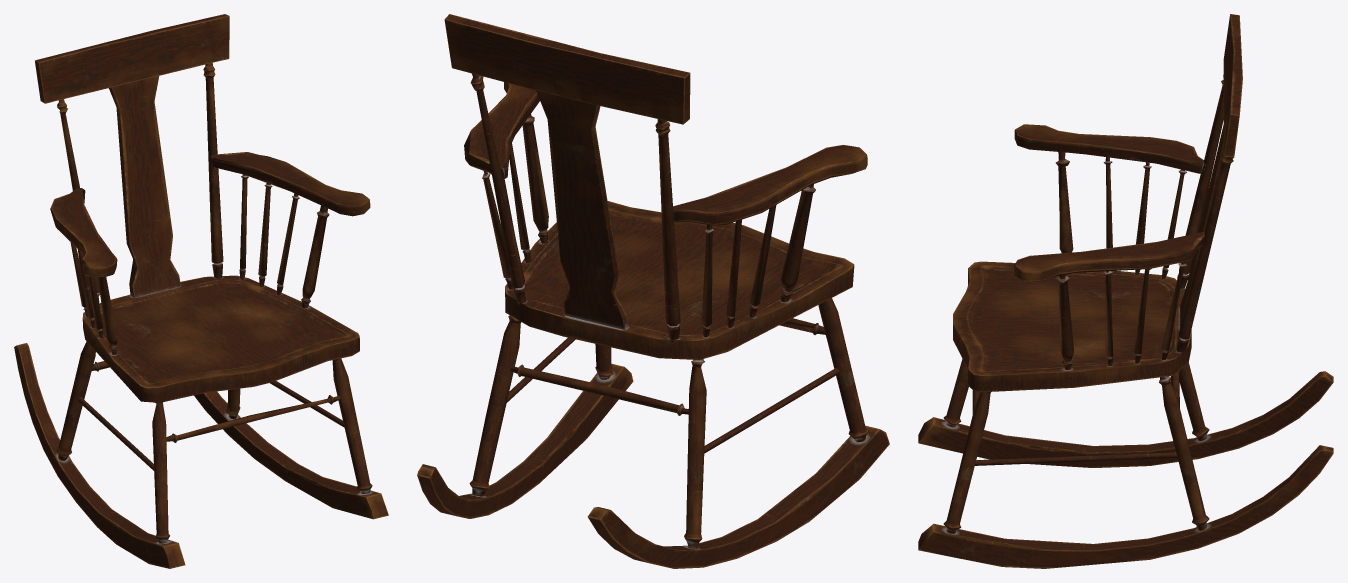
The picture shows the model from 3 angles, left to right: view 1: azimuth 30°, elevation 25°; view 2: azimuth 150°, elevation 25°; view 3: azimuth 270°, elevation 25°; orthographic projection. The views are drawn at different scales.
Visible parts, largest first — view 1: Rockingchair_01; view 2: Rockingchair_01; view 3: Rockingchair_01.
Part boxes in pixels (<box>): Rockingchair_01: <box>14,14,388,568</box>; Rockingchair_01: <box>417,14,889,568</box>; Rockingchair_01: <box>918,14,1333,568</box>.
Size of the model in its own units: 0.7081 by 0.9949 by 0.8335.
1 material, 1 textured.
